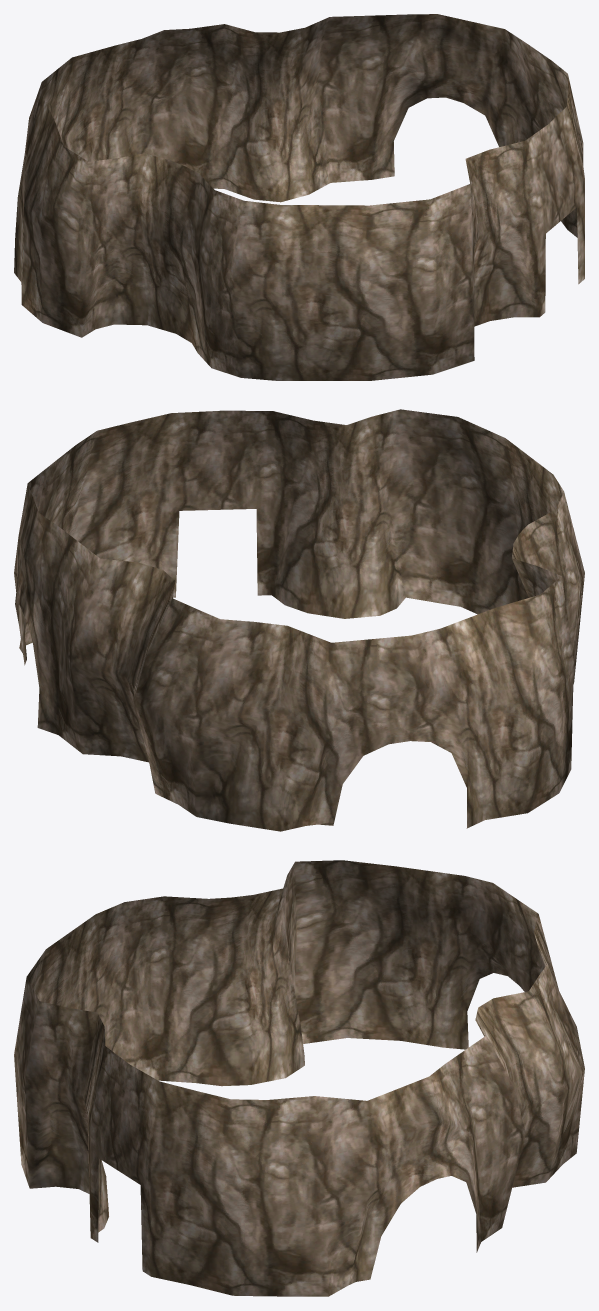
File: EKH_JAIL_PS_JA_SM_CAVE_WALL83837.fbx
The picture shows the model from 3 angles, top to bottom: view 1: azimuth 30°, elevation 25°; view 2: azimuth 150°, elevation 25°; view 3: azimuth 270°, elevation 25°; orthographic projection. The views are drawn at different scales.
Parts seen in each view (by area): view 1: EKH_JAIL_PS_JA_SM_CAVE_WALL83837; view 2: EKH_JAIL_PS_JA_SM_CAVE_WALL83837; view 3: EKH_JAIL_PS_JA_SM_CAVE_WALL83837.
Boxes of the visible parts, x1,y1,x2,y2 form: EKH_JAIL_PS_JA_SM_CAVE_WALL83837: (14,14,584,380); EKH_JAIL_PS_JA_SM_CAVE_WALL83837: (14,409,584,831); EKH_JAIL_PS_JA_SM_CAVE_WALL83837: (14,860,584,1296).
Bounding box in the file's own units: 126588 × 42950 × 116284.
Materials: 1 (1 with a texture image).
